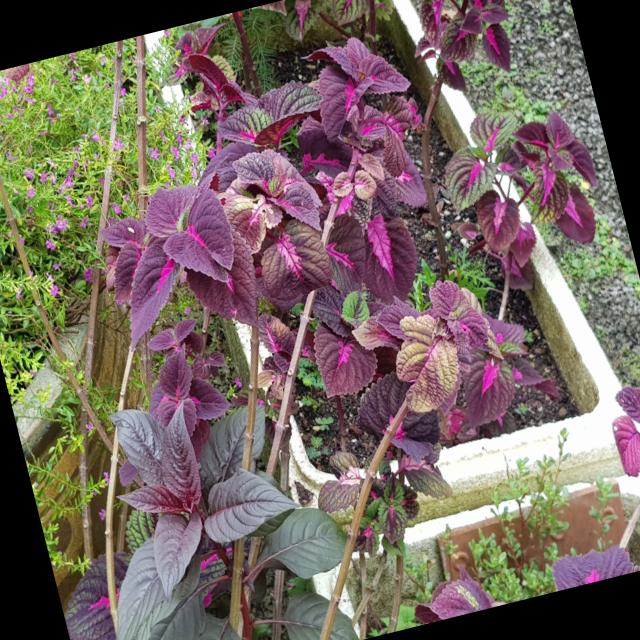Coleus: (60, 65, 542, 507), (454, 96, 610, 286), (386, 0, 561, 83), (594, 365, 640, 499)
